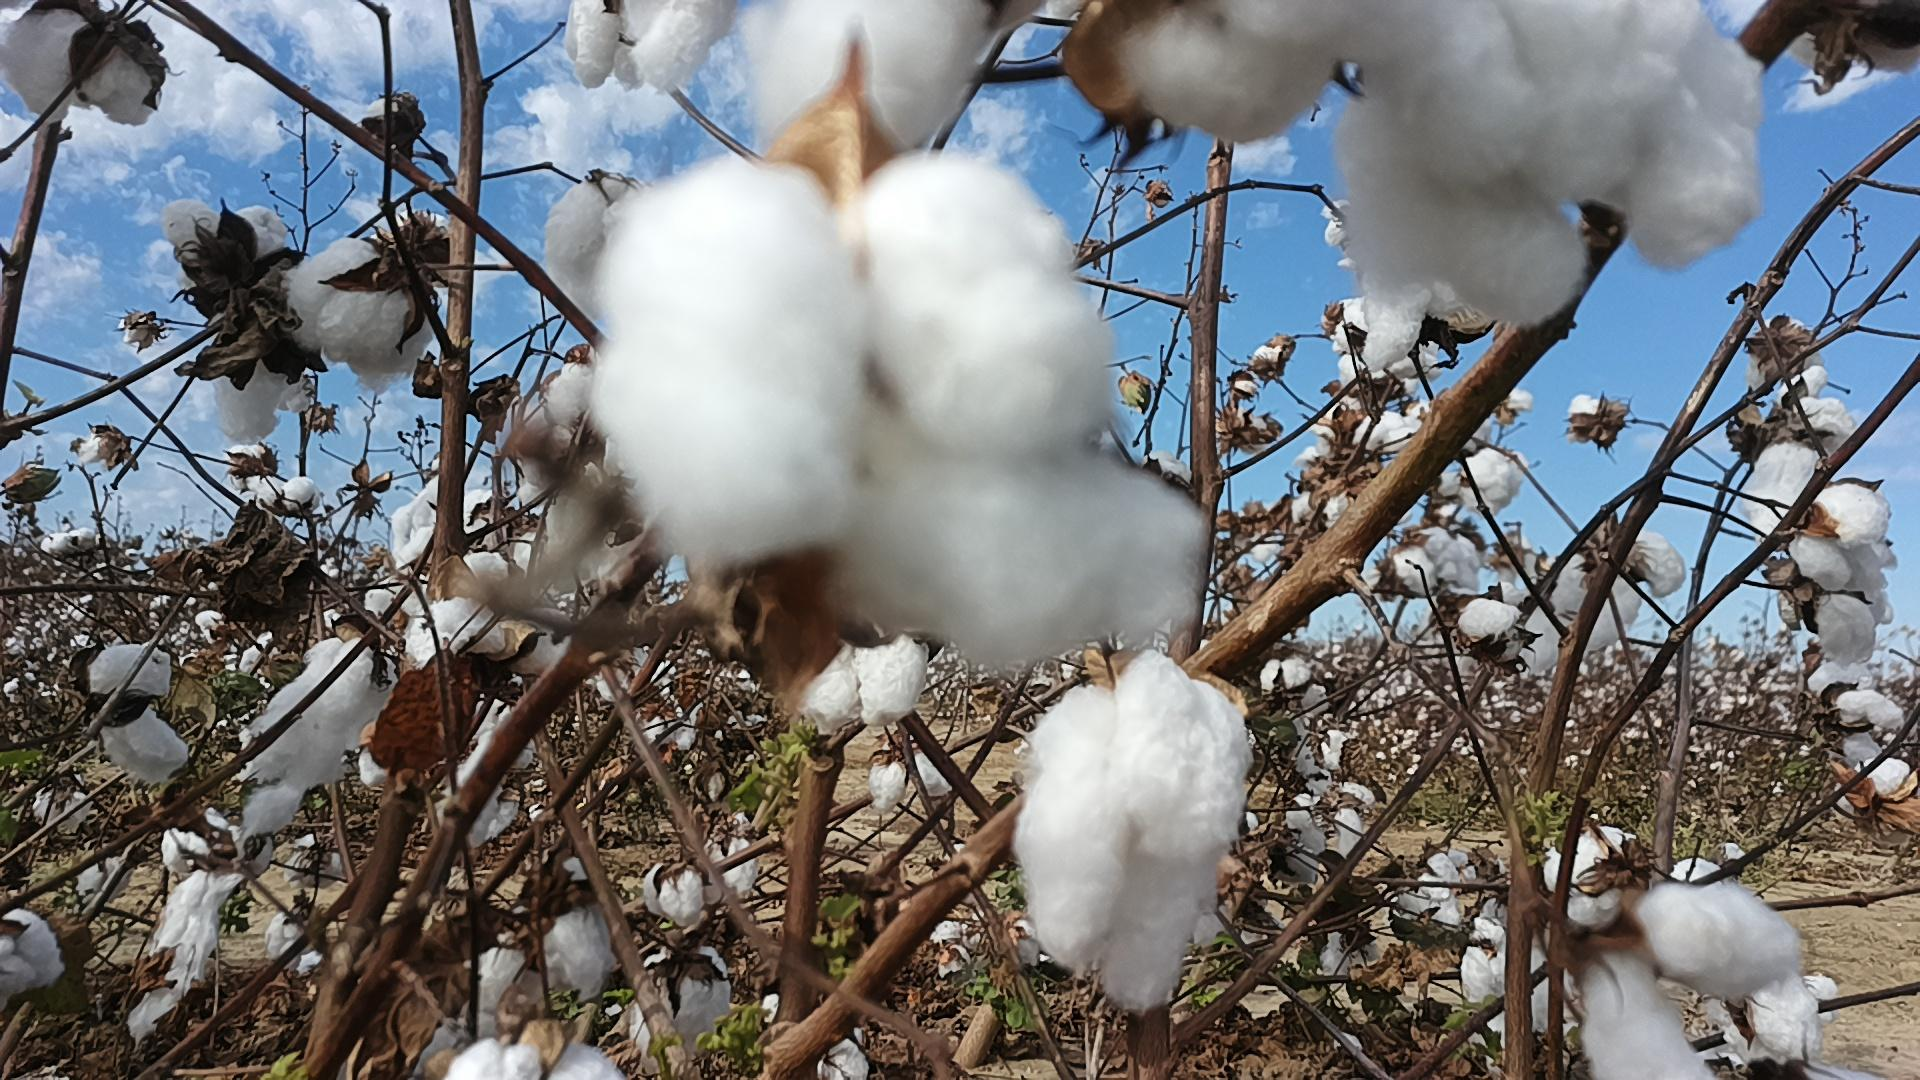cotton_ready: (600, 145, 1205, 671), (1344, 0, 1766, 326), (1015, 647, 1253, 1017), (1588, 887, 1808, 1080), (756, 0, 998, 170), (1108, 0, 1398, 136), (164, 195, 311, 439), (128, 811, 270, 1046), (237, 636, 398, 843), (256, 239, 438, 390), (473, 855, 616, 1046), (352, 695, 535, 843), (1514, 530, 1688, 671), (402, 550, 571, 671), (1739, 365, 1858, 533), (0, 5, 164, 125), (1788, 483, 1891, 671), (541, 170, 654, 327), (1458, 886, 1569, 1044), (84, 644, 189, 787), (628, 943, 736, 1067), (798, 633, 930, 733), (516, 447, 616, 571), (1358, 276, 1476, 376), (629, 0, 742, 100), (1542, 824, 1652, 924), (392, 476, 508, 571), (1808, 666, 1905, 764), (446, 1035, 638, 1080), (1398, 847, 1506, 926), (1833, 761, 1920, 845), (0, 909, 69, 1010), (1389, 525, 1482, 596), (568, 0, 640, 88), (1431, 585, 1522, 647), (873, 745, 953, 815), (549, 349, 618, 426), (1460, 448, 1528, 517), (1282, 790, 1328, 891), (638, 865, 708, 927), (704, 837, 766, 897), (1358, 410, 1425, 455)
